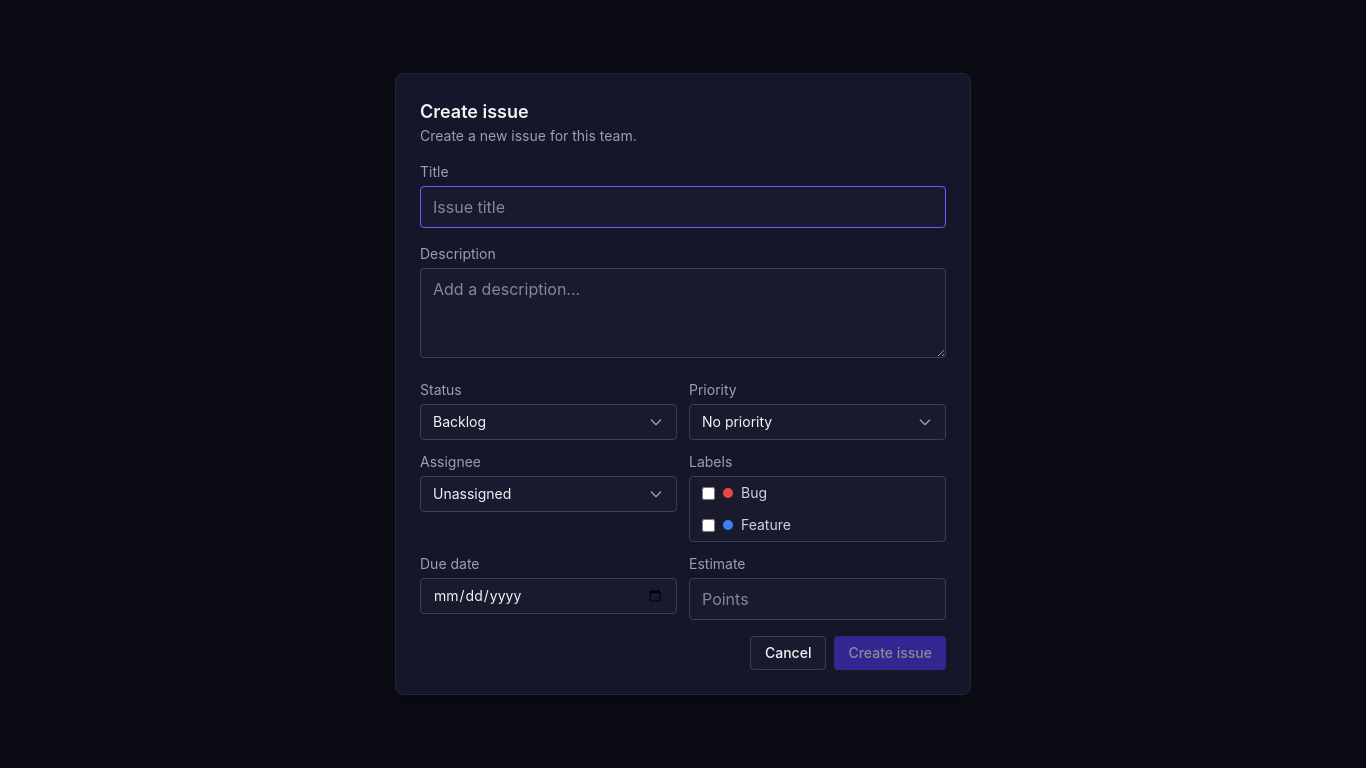
Test: CreateIssueDialog › enables submit button when title is entered
Type "My issue" into the field labelled "Title" at (683, 207), box [420,186,946,228]
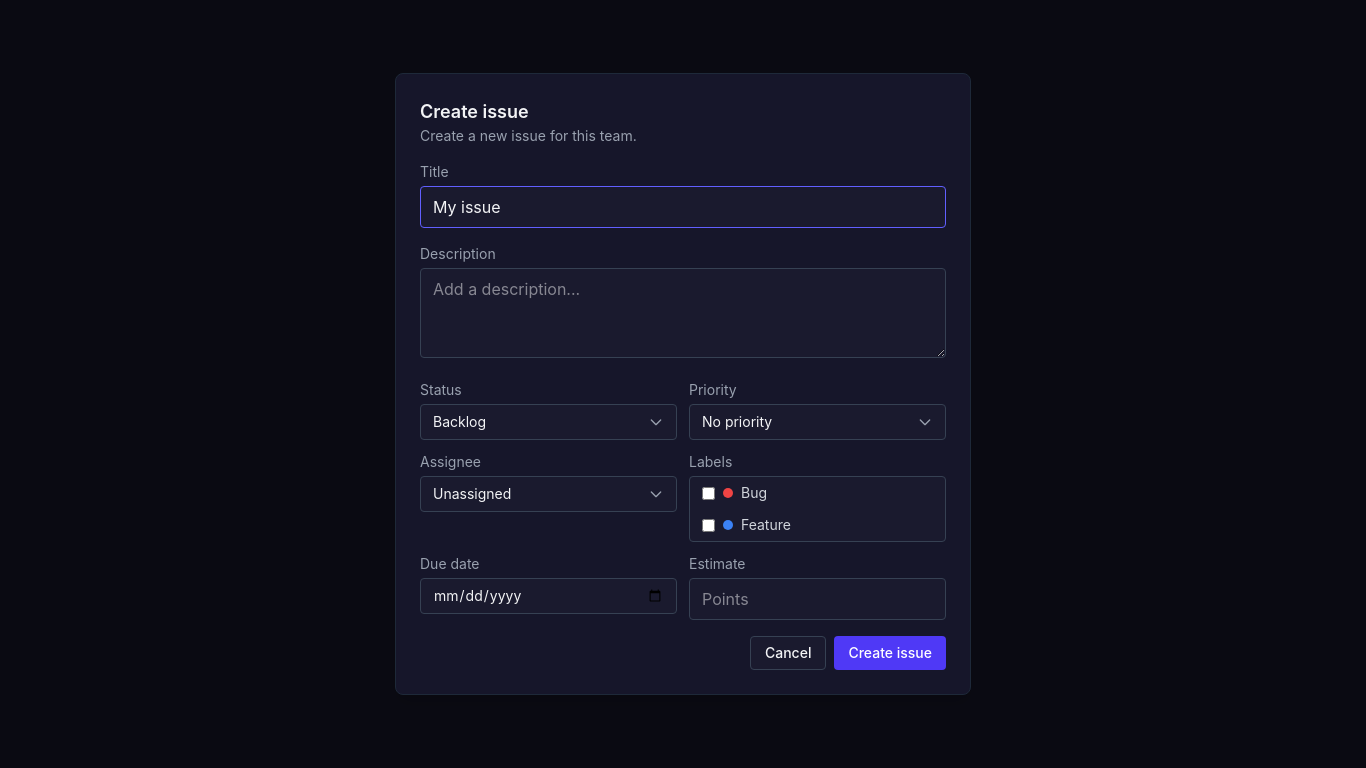
Now the button "Create issue" is enabled, box [834,636,946,670]
